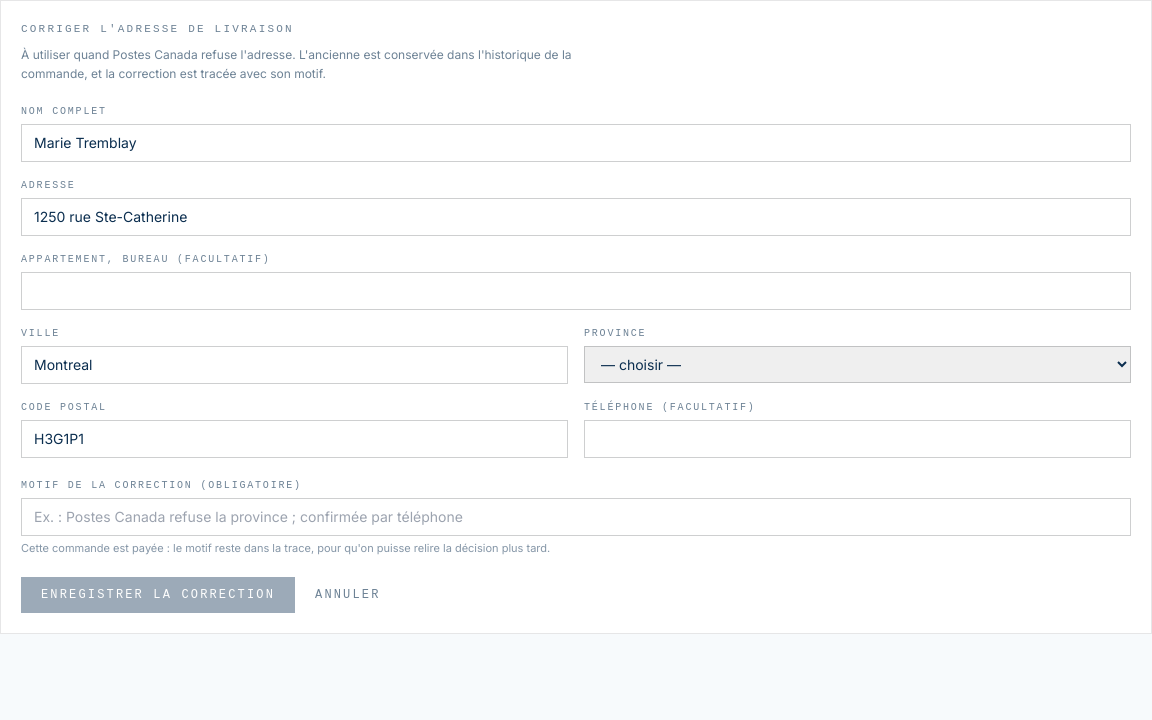
signale un code postal mal forme pendant la frappe
Replace the text in the field with test id "ca-postal" with "999999". click: [294, 439]
box: [21,420,568,458]
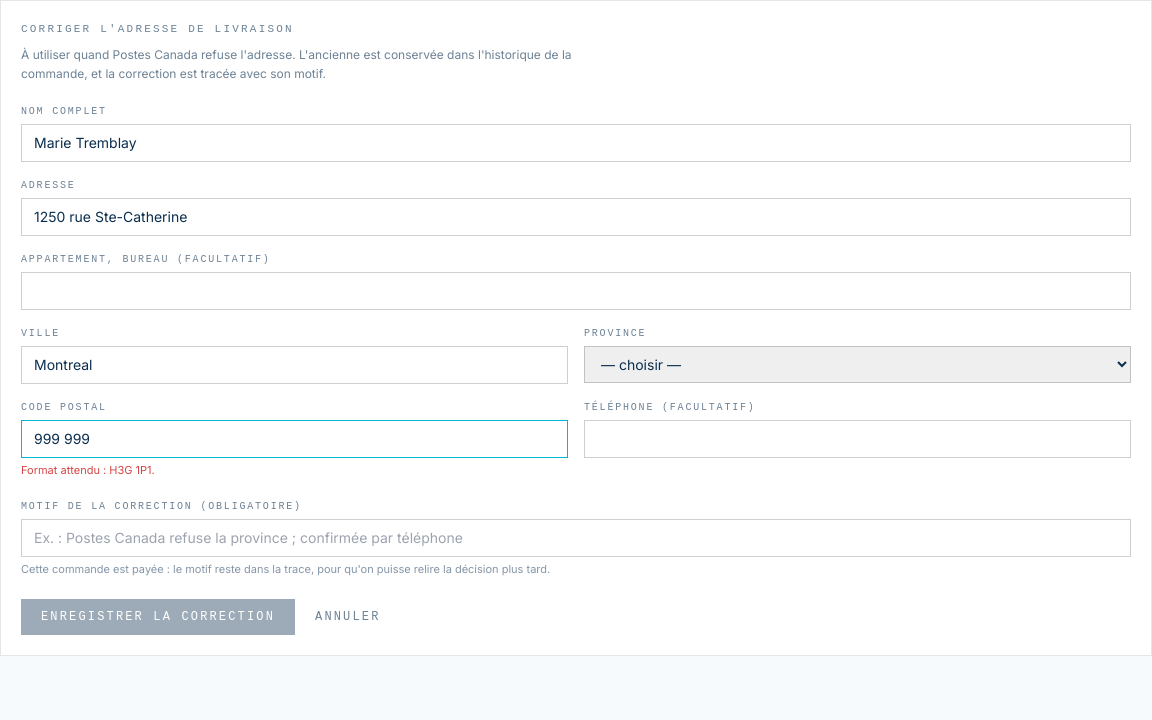
Result: the text "Format attendu : H3G 1P1." is shown at [21,463,155,477]
